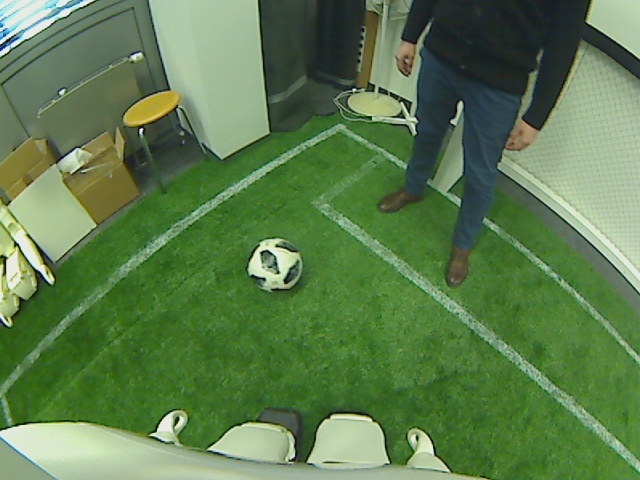ball: (244, 236, 305, 293)
